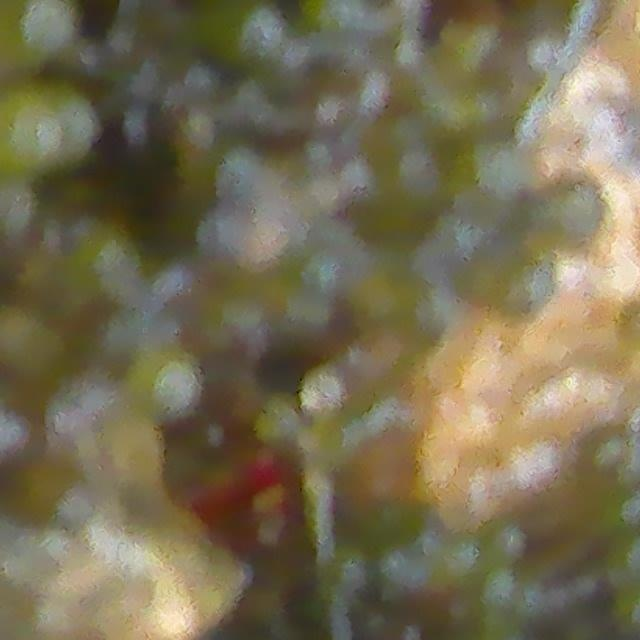SeaGrape: (129, 346, 202, 422)
